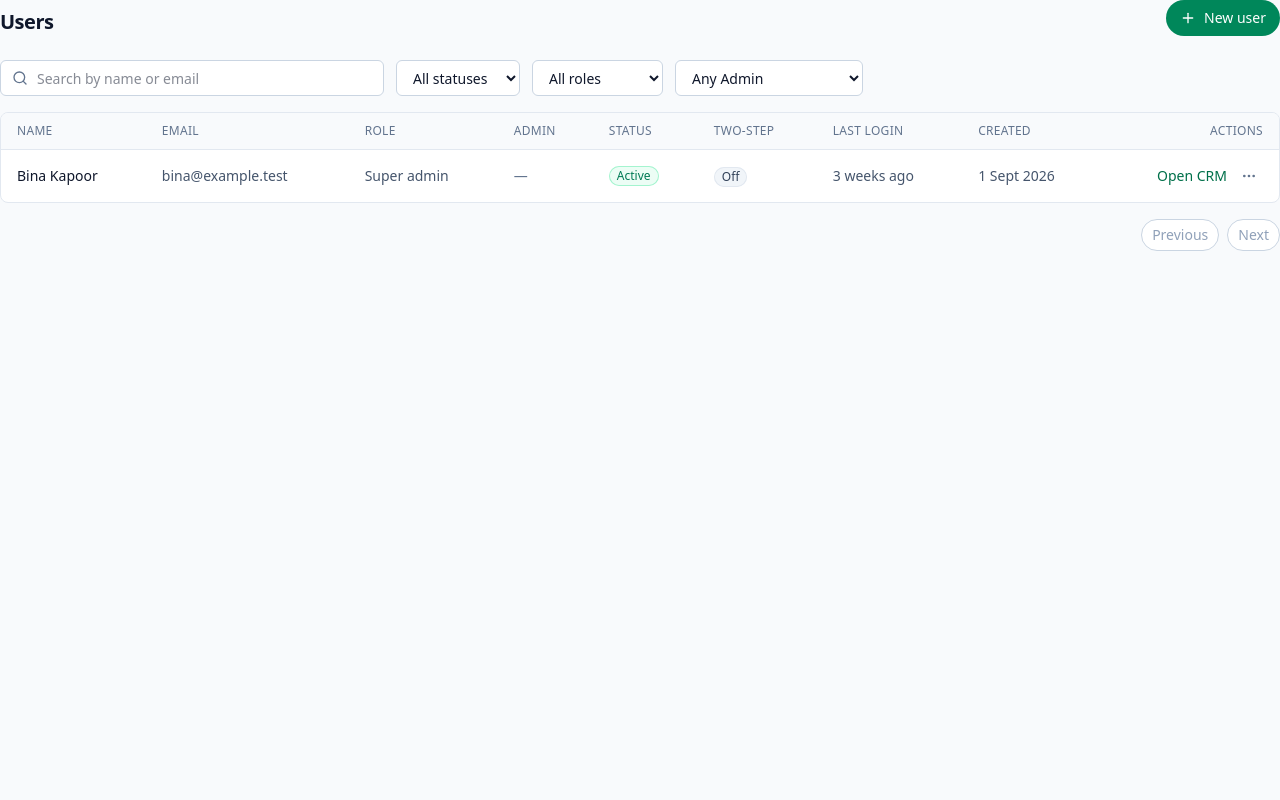
Test: a Super admin › is never offered another Super admin's role change: deactivating is the way
Click the button "Bina Kapoor". click: (57, 176)
box: [17,166,98,186]
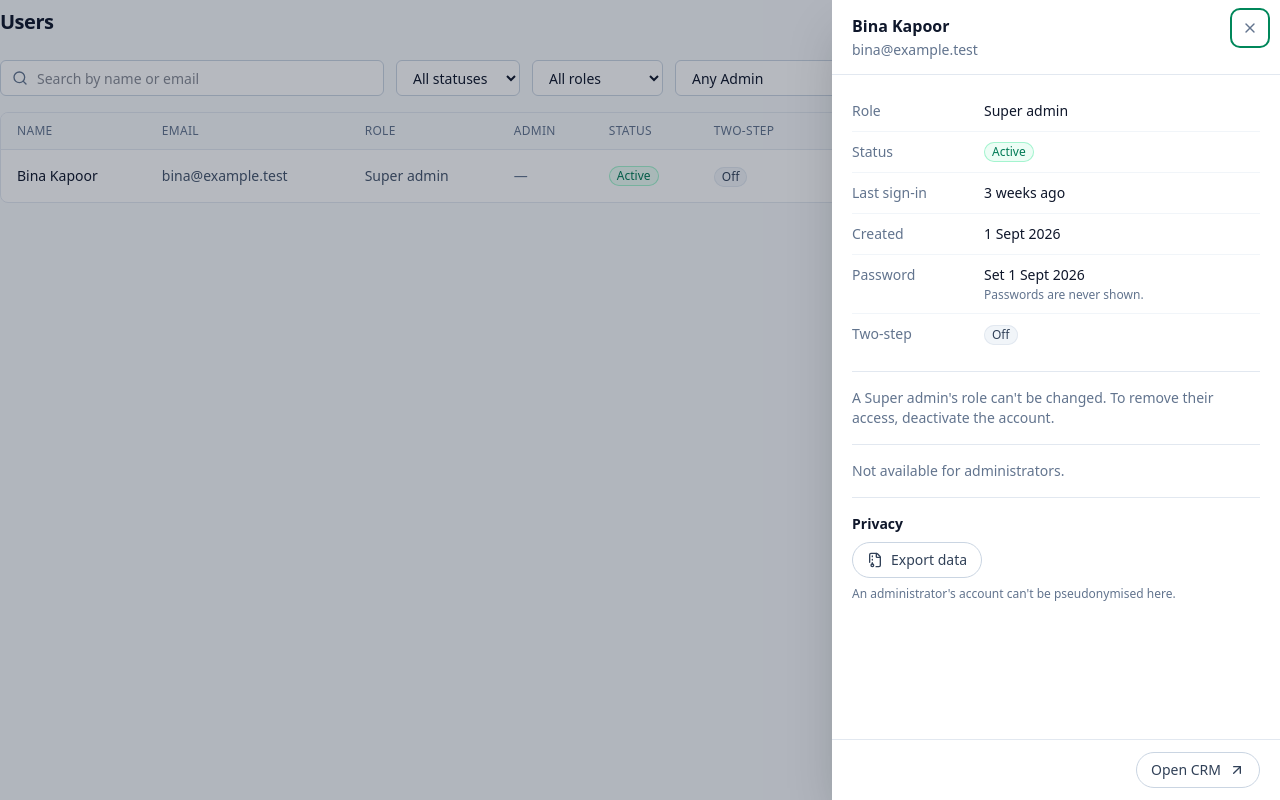
Expected: the dialog "Bina Kapoor" shows "A Super admin's role can't be changed. To remove their access, deactivate the account.", [852,388,1213,427]
Press Escape
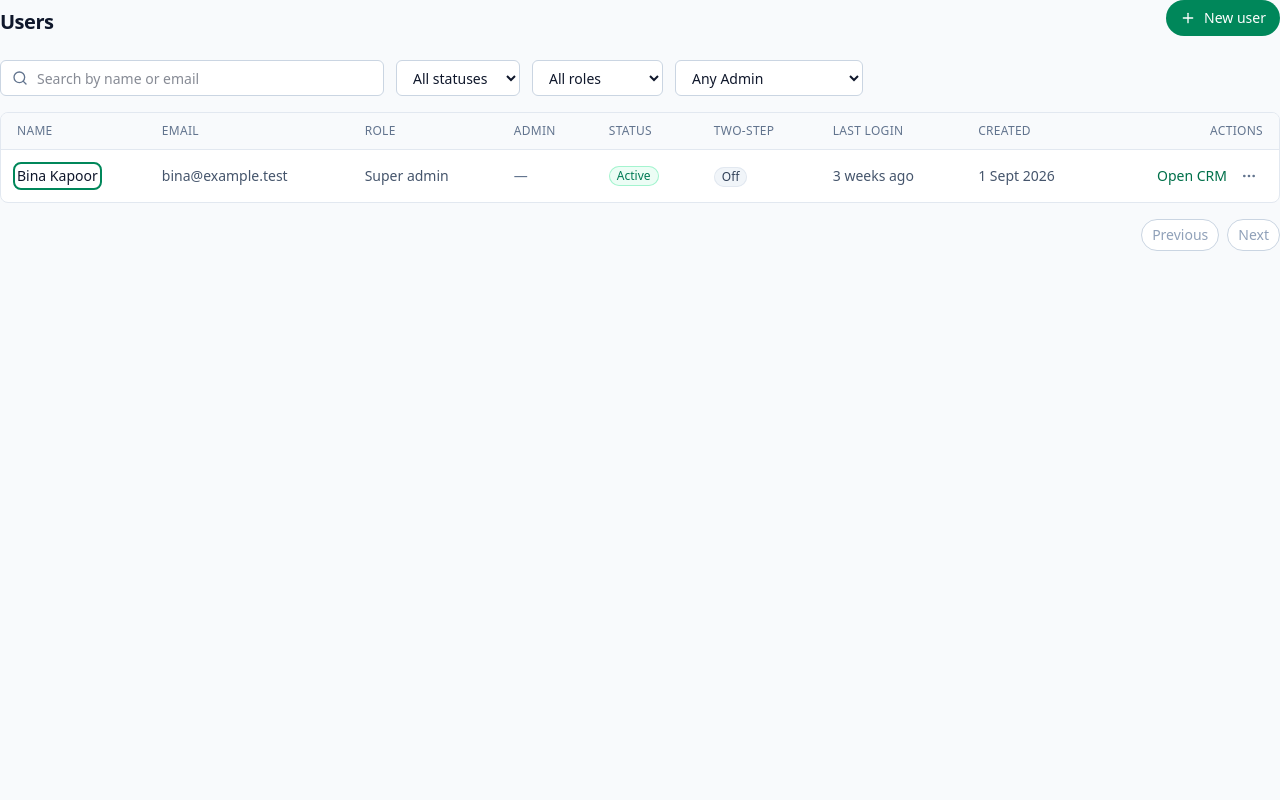
Click the button named "Actions for Bina Kapoor". click: (1249, 176)
box: [1233,160,1265,192]
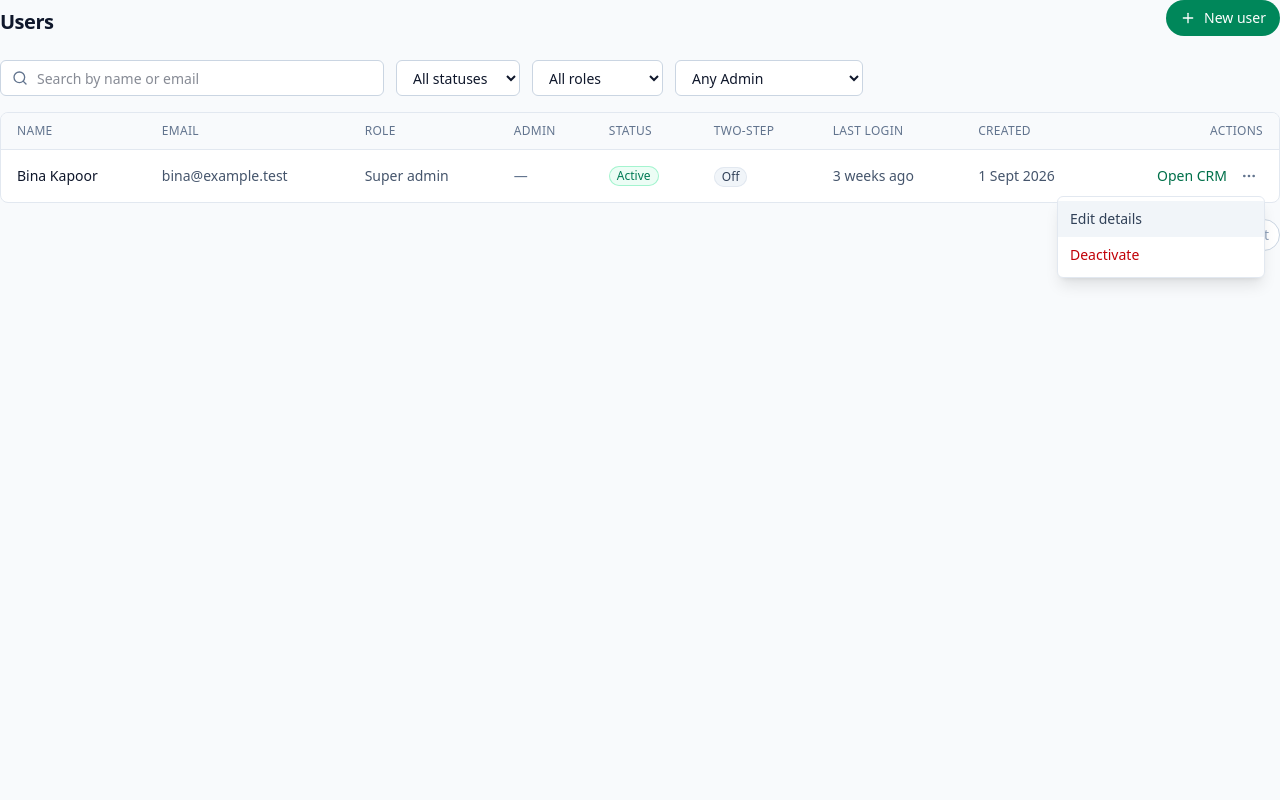
Click the menu item "Edit details". click: (1161, 219)
box: [1058,201,1264,237]
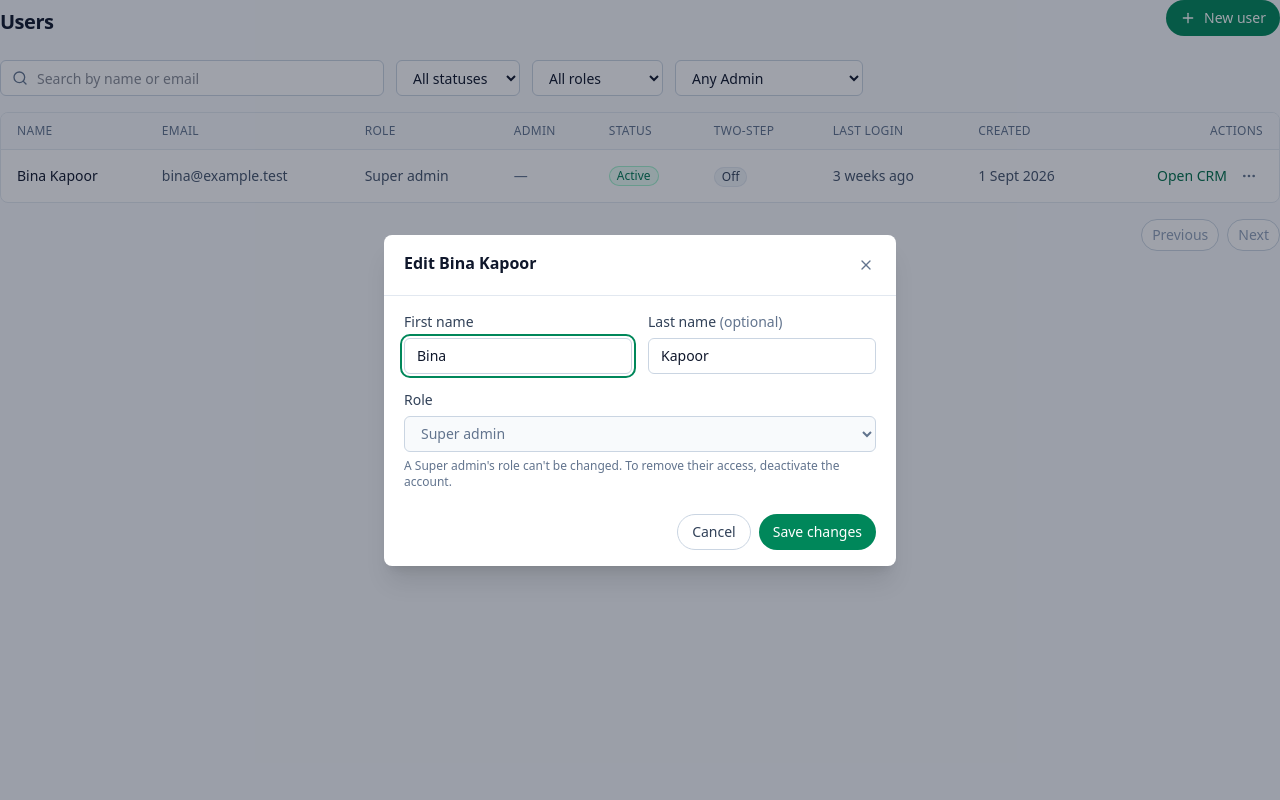
Expected: the dropdown labelled "Role" is disabled, [404,416,876,452]
